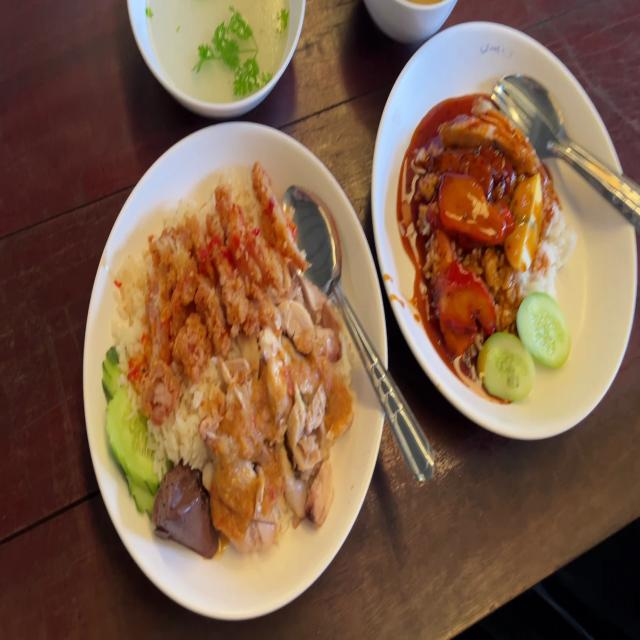chicken_rice: (210, 282, 349, 540)
noodle: (154, 463, 212, 557)
red_pork_and_crispy_pork: (505, 173, 545, 269)
stir_fried_basil: (440, 138, 512, 197)
